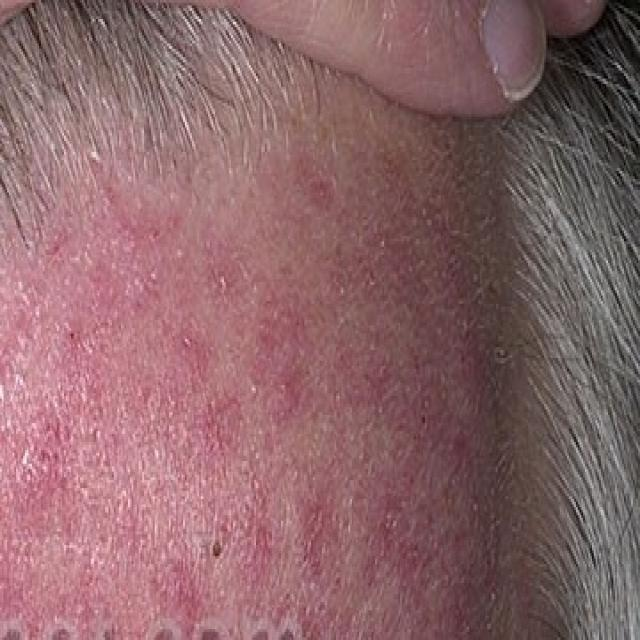Rosacea: (0, 156, 492, 640)
